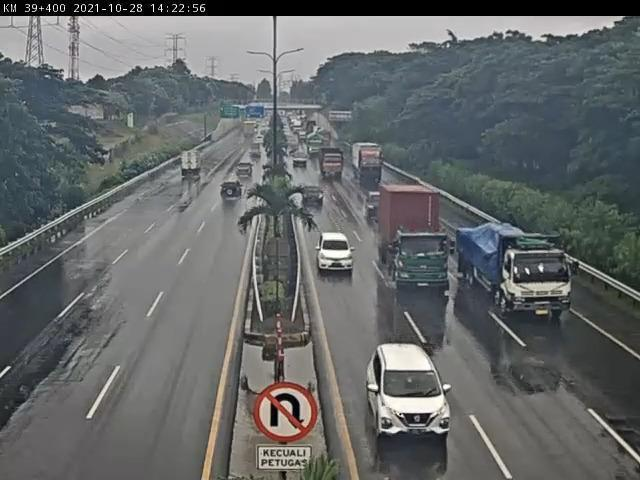truck: (459, 224, 571, 322), (383, 186, 453, 296), (354, 140, 385, 180), (178, 149, 204, 179), (320, 149, 344, 178)
